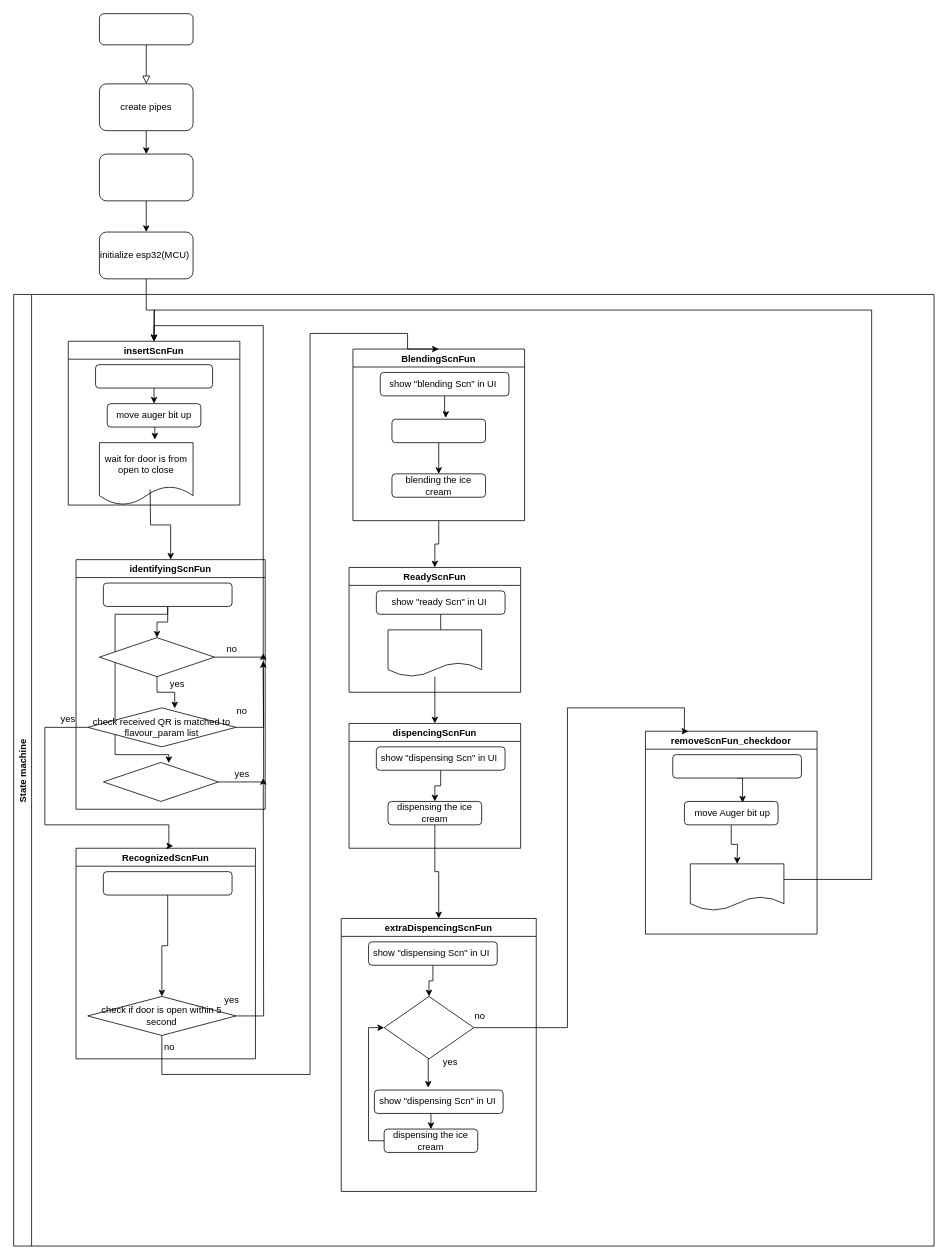
The diagram is 948 pixels wide and 1260 high, and some of its shapes have lost their labels. The centre of each missing label's shape, as x and y in pixels:
check if door is open: pixel 160 781
check if need extra dispence (UI select): pixel 428 1027
check if QR code is received within 10 sec: pixel 156 657
move auger bit down: pixel 438 430
setup GPIOs: pixel 146 177
show "identifying Scn" in UI: pixel 167 594
show "insert Scn" in UI: pixel 154 376
show "Recognised Scn" in UI: pixel 167 883
show "remove Scn" in UI: pixel 736 766
start: pixel 146 29
wait for door open: pixel 737 887
wait for touch: pixel 434 653
